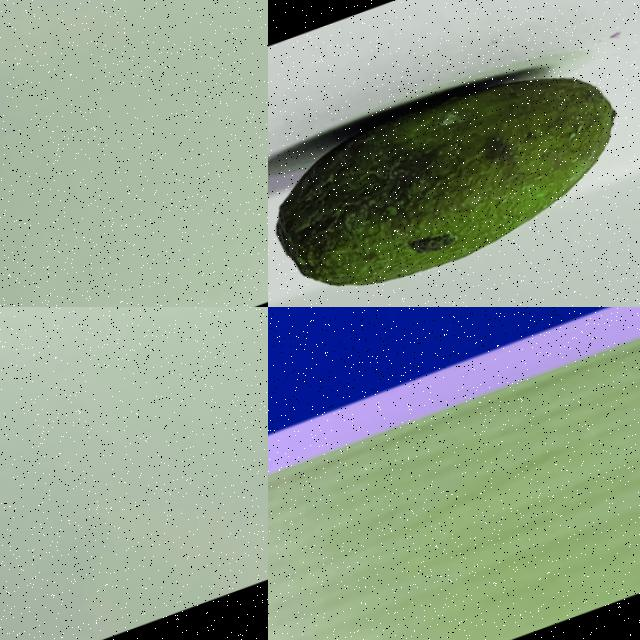Fine_cocoabeans: (268, 0, 639, 306)
Flat_cocoabeans: (268, 307, 387, 411)
